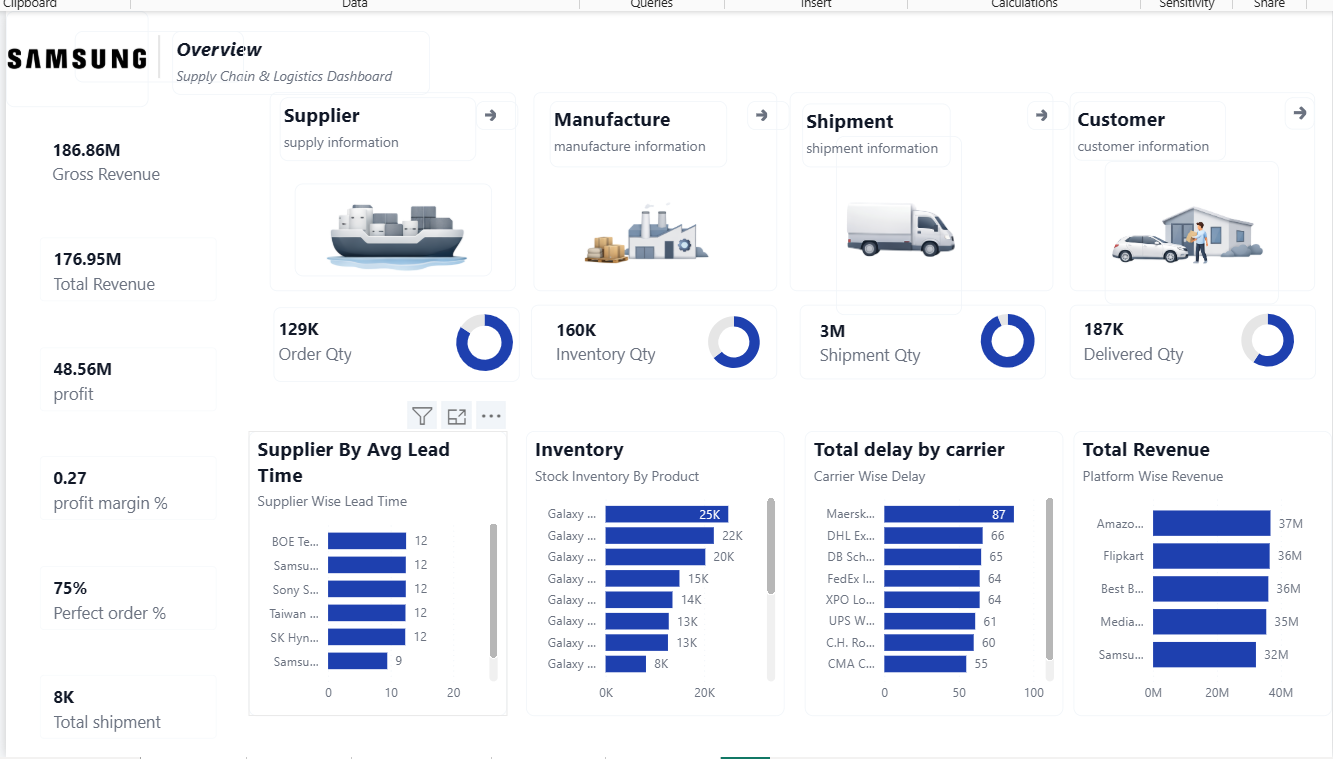

The page's visual inventory and layout, read from the dashboard file:
{"tool":"powerbi","page":{"name":"Analysis","canvas":[1280,720],"ordinal":0},"visuals":[{"type":"shape","box":[254.6,78.4,237.7,191.8],"z":0},{"type":"shape","box":[1026.7,78.4,236.5,191.8],"z":1000},{"type":"shape","box":[756.4,78.4,254.6,191.8],"z":2000},{"type":"shape","box":[509.1,78.4,235.3,191.8],"z":3000},{"type":"image","box":[278.7,166.5,190.6,89.3],"z":4000},{"type":"image","box":[545.3,150.8,137.5,120.6],"z":5000},{"type":"image","box":[801.1,120.6,121.9,172.5],"z":6000},{"type":"image","box":[1060.5,144.8,167.7,138.7],"z":7000},{"type":"actionButton","box":[453.6,86.9,41,27.7],"z":8000},{"type":"actionButton","box":[1234.2,83.2,29,31.4],"z":9000},{"type":"shape","title":"Supplier","box":[264.2,83.2,189.4,61.5],"z":10000},{"type":"shape","title":"Manufacture","box":[524.8,86.9,171.3,63.9],"z":11000},{"type":"shape","title":"Shipment","box":[768.5,89.3,143.6,61.5],"z":12000},{"type":"shape","title":"Customer","box":[1030.3,86.9,147.2,57.9],"z":13000},{"type":"shape","title":"Overview","box":[160.5,19.3,248.5,61.5],"z":14000},{"type":"shape","box":[66.4,19.3,162.9,49.5],"z":15000},{"type":"image","box":[0,0,137.5,92.9],"z":16000},{"type":"cardVisual","fields":{"Data":["Measures_Table.total_revenue"]},"box":[15.7,202,205.1,96.5],"z":17000},{"type":"actionButton","box":[715.4,86.9,41,27.7],"z":18000},{"type":"actionButton","box":[985.7,86.9,41,27.7],"z":19000},{"type":"cardVisual","fields":{"Data":["Measures_Table.profit"]},"box":[15.7,307.4,205.1,96.5],"z":20000},{"type":"cardVisual","fields":{"Data":["Measures_Table.profit margin %"]},"box":[15.7,412.8,205.1,96.5],"z":21000},{"type":"cardVisual","fields":{"Data":["Measures_Table.total_shipment"]},"box":[15.7,623.5,205.1,96.5],"z":22000},{"type":"cardVisual","fields":{"Data":["Measures_Table.Perfect order %"]},"box":[15.7,518.3,205.1,96.5],"z":23000},{"type":"cardVisual","fields":{"Data":["Sum(fact_sales.gross_revenue)"]},"box":[15.7,96.5,205.1,96.5],"z":24000},{"type":"shape","box":[257.9,285.4,237.7,72.4],"z":25000},{"type":"shape","box":[506.7,283.5,237.7,72.4],"z":26000},{"type":"shape","box":[766.1,283.5,237.7,72.4],"z":27000},{"type":"shape","box":[1026.7,283.5,237.7,72.4],"z":28000},{"type":"cardVisual","fields":{"Data":["Measures_Table.Order Qty"]},"box":[234,269,165.3,98.9],"z":29000},{"type":"cardVisual","fields":{"Data":["Measures_Table.inventory_value"]},"box":[501.9,272.7,164.1,91.7],"z":30000},{"type":"cardVisual","fields":{"Data":["Measures_Table.Total Shipment Qty"]},"box":[756.4,269,166.5,101.3],"z":31000},{"type":"cardVisual","fields":{"Data":["Measures_Table.Total delivered Qty"]},"box":[1011,273.9,164.1,89.3],"z":32000},{"type":"clusteredBarChart","title":"Supplier By Avg Lead Time","fields":{"Y":["Measures_Table.avg_lead_time"],"Category":["dim_supplier.supplier_name"]},"box":[234,405.4,249.7,275.1],"z":33000},{"type":"clusteredBarChart","title":"Inventory","fields":{"Y":["Measures_Table.inventory_value"],"Category":["dim_product.product_name"]},"box":[501.9,405.4,249.7,275.1],"z":34000},{"type":"clusteredBarChart","title":"Total delay by carrier","fields":{"Y":["Measures_Table.total delay"],"Category":["fact_shipment.carrier"]},"box":[770.9,405.4,249.7,275.1],"z":35000},{"type":"clusteredBarChart","title":"Total Revenue","fields":{"Y":["Measures_Table.total_revenue"],"Category":["dim_customer.customer_name"]},"box":[1030.3,405.4,249.7,275.1],"z":36000},{"type":"donutChart","fields":{"Y":["Measures_Table.inventory_value","Measures_Table.safety_stock"]},"box":[639.4,283.5,126.7,72.4],"z":37000},{"type":"donutChart","fields":{"Y":["Measures_Table.Order Qty","Measures_Table.defect"]},"box":[399.3,281.1,125.5,78.4],"z":38000},{"type":"donutChart","fields":{"Y":["Measures_Table.Total Shipment Qty","Measures_Table.Total delivered Qty"]},"box":[907.2,281.1,119.4,74.8],"z":39000},{"type":"donutChart","fields":{"Y":["Measures_Table.Total delivered Qty","Measures_Table.Order Qty"]},"box":[1155.8,281.1,124.3,73.6],"z":40000}]}

Visuals, with their boxes on the page's 1280x720 design canvas (x1, y1, x2, y2). These are canvas units, not pixel positions in the 1333x759 screenshot, which may show the page scaled, cropped or inside an application window:
shape: <bbox>255, 78, 492, 270</bbox>
shape: <bbox>1027, 78, 1263, 270</bbox>
shape: <bbox>756, 78, 1011, 270</bbox>
shape: <bbox>509, 78, 744, 270</bbox>
image: <bbox>279, 166, 469, 256</bbox>
image: <bbox>545, 151, 683, 271</bbox>
image: <bbox>801, 121, 923, 293</bbox>
image: <bbox>1060, 145, 1228, 284</bbox>
actionButton: <bbox>454, 87, 495, 115</bbox>
actionButton: <bbox>1234, 83, 1263, 115</bbox>
"Supplier" shape: <bbox>264, 83, 454, 145</bbox>
"Manufacture" shape: <bbox>525, 87, 696, 151</bbox>
"Shipment" shape: <bbox>768, 89, 912, 151</bbox>
"Customer" shape: <bbox>1030, 87, 1178, 145</bbox>
"Overview" shape: <bbox>160, 19, 409, 81</bbox>
shape: <bbox>66, 19, 229, 69</bbox>
image: <bbox>0, 0, 138, 93</bbox>
cardVisual - Measures_Table.total_revenue: <bbox>16, 202, 221, 298</bbox>
actionButton: <bbox>715, 87, 756, 115</bbox>
actionButton: <bbox>986, 87, 1027, 115</bbox>
cardVisual - Measures_Table.profit: <bbox>16, 307, 221, 404</bbox>
cardVisual - Measures_Table.profit margin %: <bbox>16, 413, 221, 509</bbox>
cardVisual - Measures_Table.total_shipment: <bbox>16, 624, 221, 720</bbox>
cardVisual - Measures_Table.Perfect order %: <bbox>16, 518, 221, 615</bbox>
cardVisual - Sum(fact_sales.gross_revenue): <bbox>16, 96, 221, 193</bbox>
shape: <bbox>258, 285, 496, 358</bbox>
shape: <bbox>507, 284, 744, 356</bbox>
shape: <bbox>766, 284, 1004, 356</bbox>
shape: <bbox>1027, 284, 1264, 356</bbox>
cardVisual - Measures_Table.Order Qty: <bbox>234, 269, 399, 368</bbox>
cardVisual - Measures_Table.inventory_value: <bbox>502, 273, 666, 364</bbox>
cardVisual - Measures_Table.Total Shipment Qty: <bbox>756, 269, 923, 370</bbox>
cardVisual - Measures_Table.Total delivered Qty: <bbox>1011, 274, 1175, 363</bbox>
"Supplier By Avg Lead Time" clusteredBarChart: <bbox>234, 405, 484, 680</bbox>
"Inventory" clusteredBarChart: <bbox>502, 405, 752, 680</bbox>
"Total delay by carrier" clusteredBarChart: <bbox>771, 405, 1021, 680</bbox>
"Total Revenue" clusteredBarChart: <bbox>1030, 405, 1280, 680</bbox>
donutChart - Measures_Table.inventory_value x Measures_Table.safety_stock: <bbox>639, 284, 766, 356</bbox>
donutChart - Measures_Table.Order Qty x Measures_Table.defect: <bbox>399, 281, 525, 360</bbox>
donutChart - Measures_Table.Total Shipment Qty x Measures_Table.Total delivered Qty: <bbox>907, 281, 1027, 356</bbox>
donutChart - Measures_Table.Total delivered Qty x Measures_Table.Order Qty: <bbox>1156, 281, 1280, 355</bbox>
